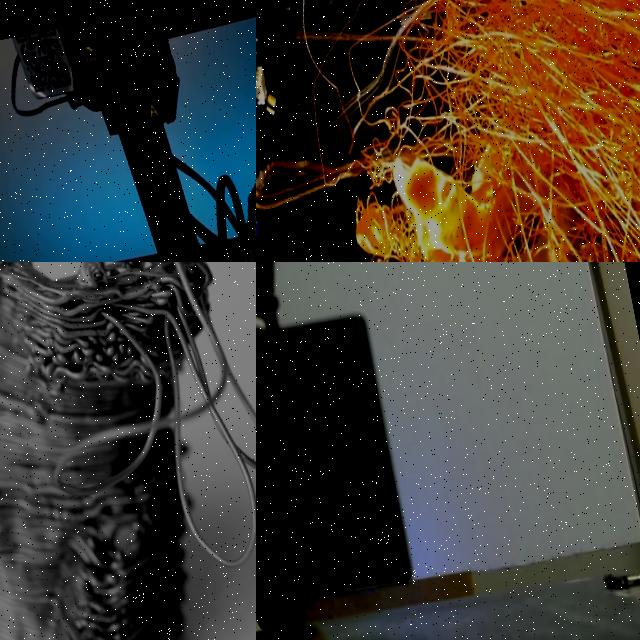spaghetti: (256, 0, 640, 262), (102, 262, 256, 568), (269, 614, 325, 640)
